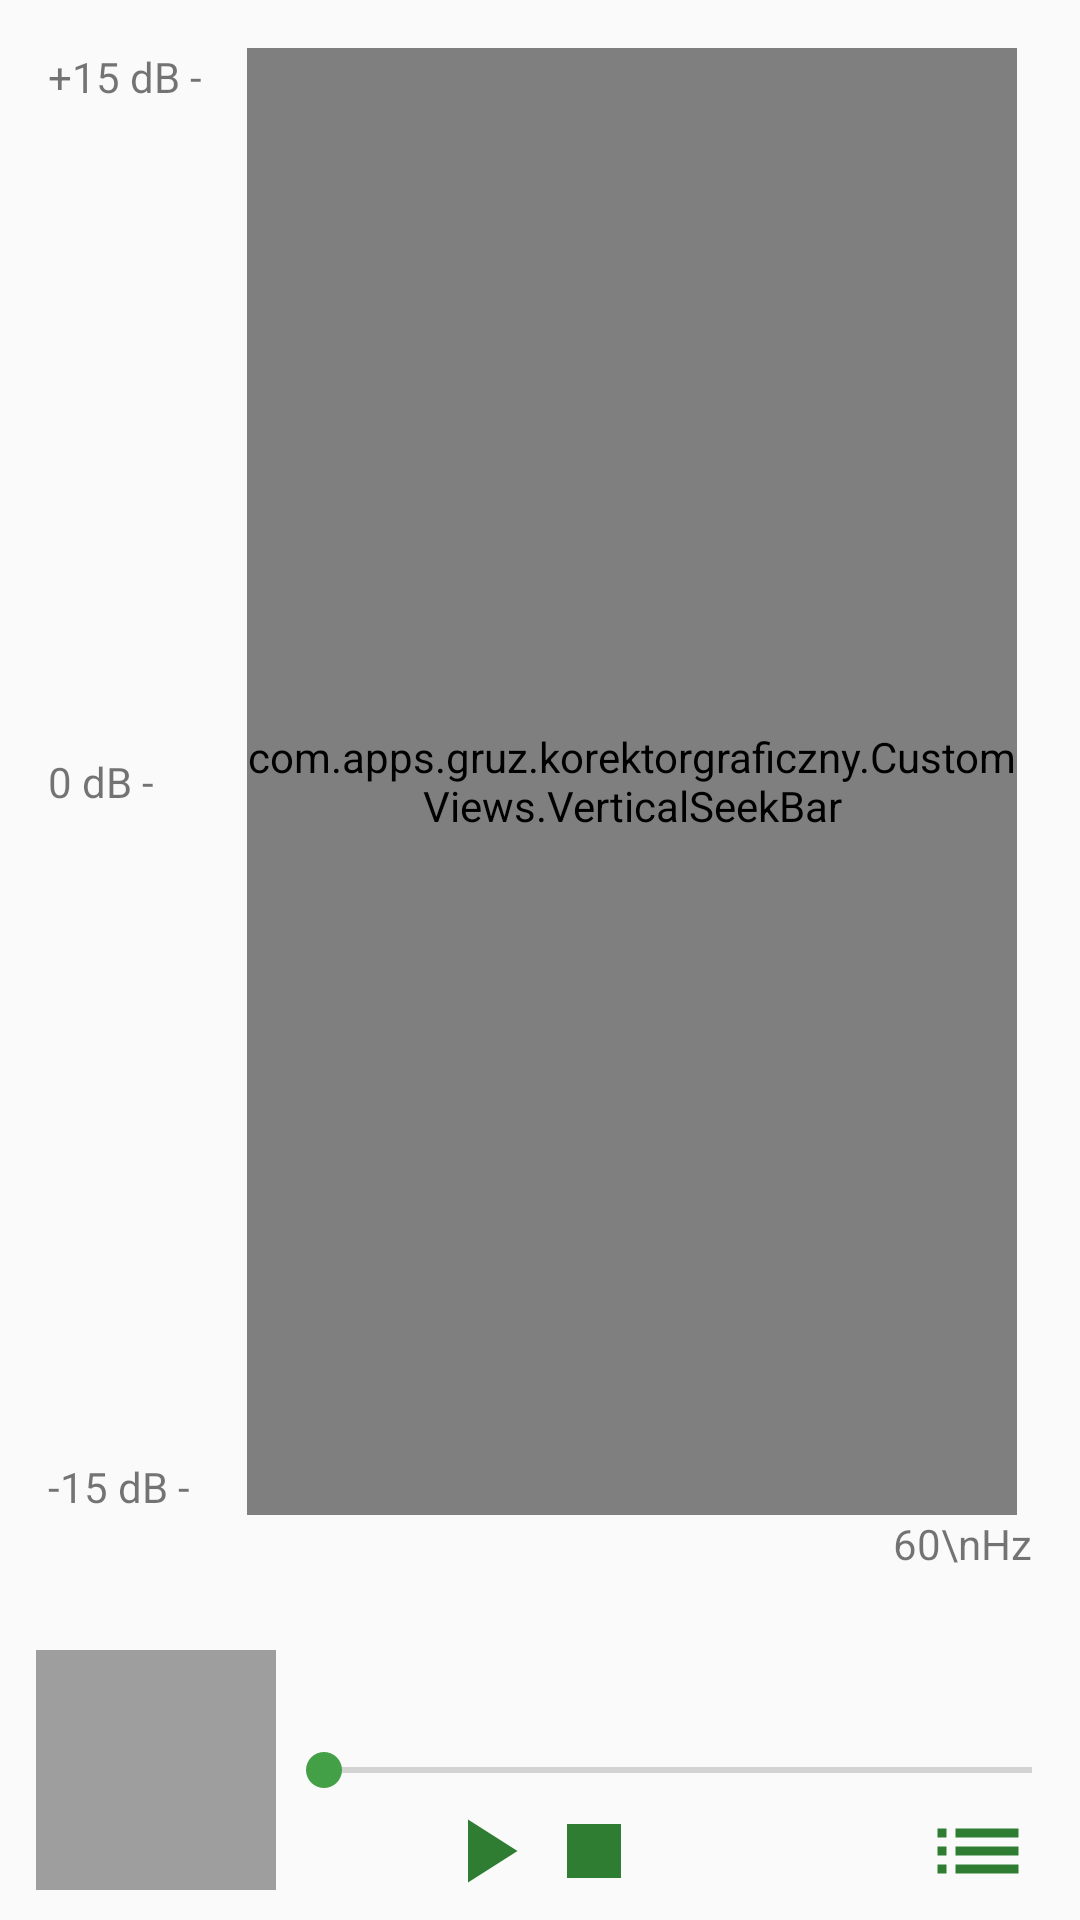

Where to tap for icons on this 1080 x 1920 app screen, as point (x, y):
list: point (978, 1851)
play arrow: point (492, 1851)
